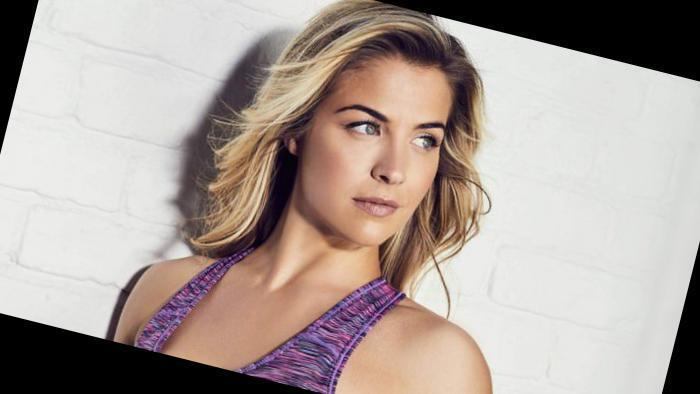Sober: (303, 54, 445, 242)
